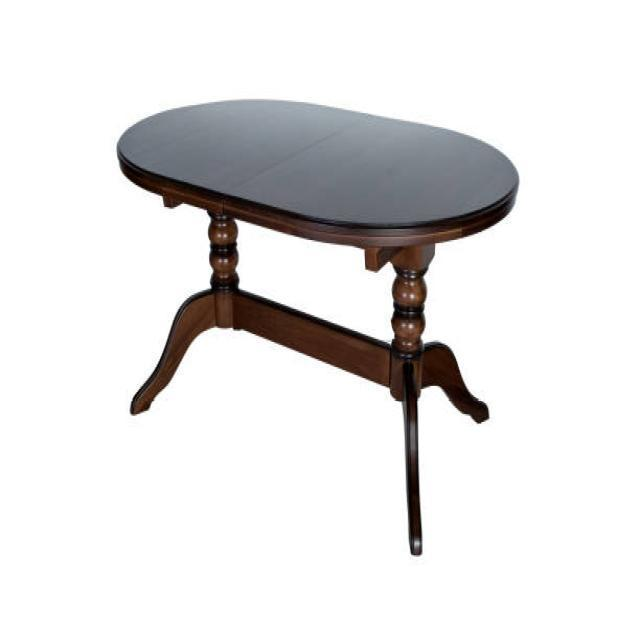table: (115, 95, 520, 556)
